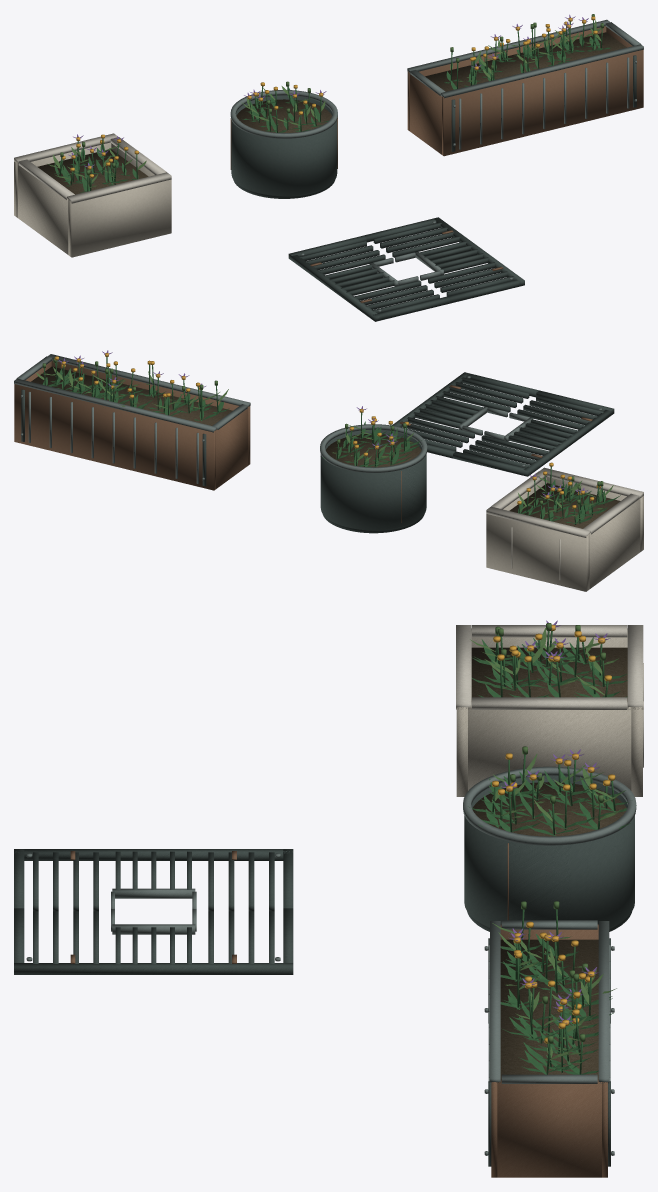
3 renders of one model, top to bottom at view 1: azimuth 30°, elevation 25°; view 2: azimuth 150°, elevation 25°; view 3: azimuth 270°, elevation 25°, orthographic. The views are drawn at different scales.
Visible parts, largest first — view 1: URBAN_VIS_Urban_Outer_LongWall, ROUND_VIS_Round_Steel_Wall, GRATE_VIS_Grille_Ribs_FullSpan, SQUARE_VIS_Concrete_FrontBack, SQUARE_VIS_Concrete_SideWalls, URBAN_VIS_Urban_Planting_Soil, GRATE_VIS_Grille_Ribs_OuterBand, URBAN_VIS_Urban_Rolled_LongRim, URBAN_VIS_Urban_EndWall, SQUARE_VIS_Dark_Soil_Bed, SQUARE_VIS_Concrete_Lip_FB, ROUND_VIS_Round_Soil (+17 smaller); view 2: URBAN_VIS_Urban_Outer_LongWall, ROUND_VIS_Round_Steel_Wall, SQUARE_VIS_Concrete_FrontBack, GRATE_VIS_Grille_Ribs_FullSpan, SQUARE_VIS_Concrete_SideWalls, GRATE_VIS_Grille_Ribs_OuterBand, URBAN_VIS_Urban_Rolled_LongRim, URBAN_VIS_Urban_Planting_Soil, URBAN_VIS_Urban_EndWall, URBAN_VIS_Foliage_Groundcover, SQUARE_VIS_Dark_Soil_Bed, SQUARE_VIS_Concrete_Lip_FB (+19 smaller); view 3: ROUND_VIS_Round_Steel_Wall, SQUARE_VIS_Concrete_SideWalls, URBAN_VIS_Urban_EndWall, URBAN_VIS_Urban_Planting_Soil, GRATE_VIS_OuterFrame_Side, GRATE_VIS_Grille_Ribs_FullSpan, SQUARE_VIS_Dark_Soil_Bed, URBAN_VIS_Foliage_Groundcover, SQUARE_VIS_Concrete_Lip_Side, ROUND_VIS_Round_Soil, URBAN_VIS_Urban_Rolled_LongRim, ROUND_VIS_Rolled_Top_Rim (+18 smaller).
Boxes of the visible parts, x1,y1,x2,y2 form: URBAN_VIS_Urban_Outer_LongWall: [407, 26, 643, 156]; ROUND_VIS_Round_Steel_Wall: [231, 95, 337, 195]; GRATE_VIS_Grille_Ribs_FullSpan: [299, 222, 514, 313]; SQUARE_VIS_Concrete_FrontBack: [14, 142, 171, 257]; SQUARE_VIS_Concrete_SideWalls: [17, 143, 154, 254]; URBAN_VIS_Urban_Planting_Soil: [425, 32, 626, 91]; GRATE_VIS_Grille_Ribs_OuterBand: [324, 241, 489, 295]; URBAN_VIS_Urban_Rolled_LongRim: [407, 19, 643, 98]; URBAN_VIS_Urban_EndWall: [409, 27, 632, 154]; SQUARE_VIS_Dark_Soil_Bed: [37, 149, 148, 194]; SQUARE_VIS_Concrete_Lip_FB: [14, 133, 171, 203]; ROUND_VIS_Round_Soil: [236, 99, 331, 132]; URBAN_VIS_Urban_Outer_LongWall: [14, 360, 250, 490]; ROUND_VIS_Round_Steel_Wall: [320, 430, 426, 530]; SQUARE_VIS_Concrete_FrontBack: [486, 477, 643, 591]; GRATE_VIS_Grille_Ribs_FullSpan: [401, 377, 603, 468]; SQUARE_VIS_Concrete_SideWalls: [503, 477, 640, 588]; GRATE_VIS_Grille_Ribs_OuterBand: [413, 396, 578, 450]; URBAN_VIS_Urban_Rolled_LongRim: [14, 354, 250, 432]; URBAN_VIS_Urban_Planting_Soil: [31, 366, 232, 425]; URBAN_VIS_Urban_EndWall: [25, 361, 248, 488]; URBAN_VIS_Foliage_Groundcover: [42, 368, 229, 420]; SQUARE_VIS_Dark_Soil_Bed: [509, 483, 620, 528]; SQUARE_VIS_Concrete_Lip_FB: [486, 467, 643, 537]; ROUND_VIS_Round_Steel_Wall: [464, 775, 634, 927]; SQUARE_VIS_Concrete_SideWalls: [468, 628, 631, 790]; URBAN_VIS_Urban_EndWall: [497, 924, 601, 1177]; URBAN_VIS_Urban_Planting_Soil: [500, 939, 598, 1079]; GRATE_VIS_OuterFrame_Side: [14, 849, 293, 974]; GRATE_VIS_Grille_Ribs_FullSpan: [33, 852, 274, 963]; SQUARE_VIS_Dark_Soil_Bed: [471, 647, 627, 701]; URBAN_VIS_Foliage_Groundcover: [500, 934, 614, 1074]; SQUARE_VIS_Concrete_Lip_Side: [472, 625, 627, 709]; ROUND_VIS_Round_Soil: [472, 782, 626, 836]; URBAN_VIS_Urban_Rolled_LongRim: [490, 921, 609, 1083]; ROUND_VIS_Rolled_Top_Rim: [463, 766, 636, 845].
Bounding box in the file's own units: 7.01 × 1.07 × 4.06.
Materials: 11 (11 with a texture image).
